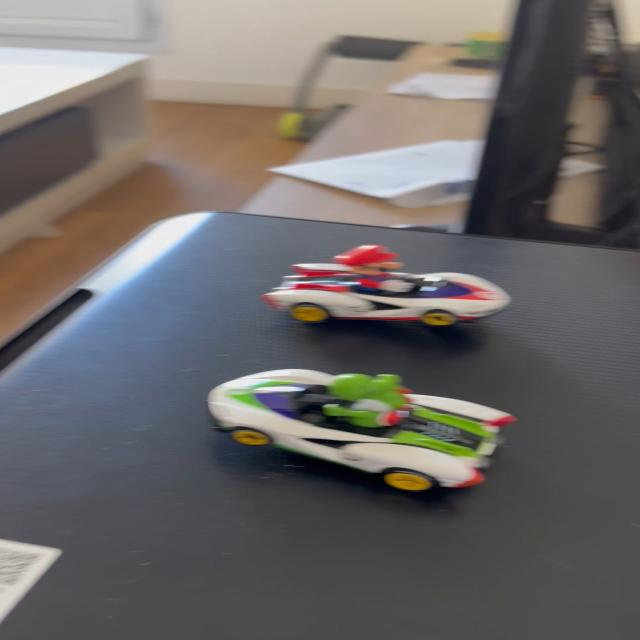mario: (270, 247, 532, 331)
yoshi: (197, 359, 541, 494)
